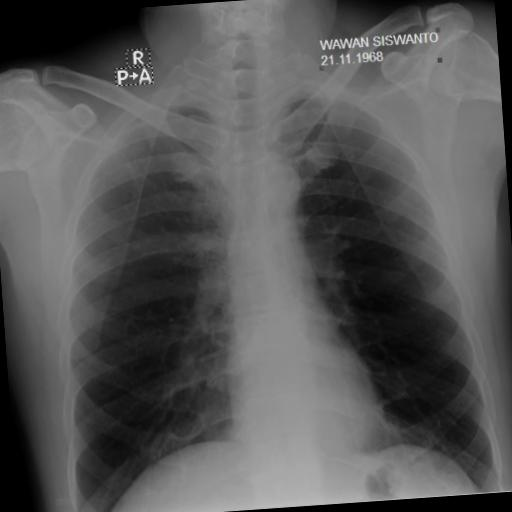normal: (29, 17, 509, 512)
